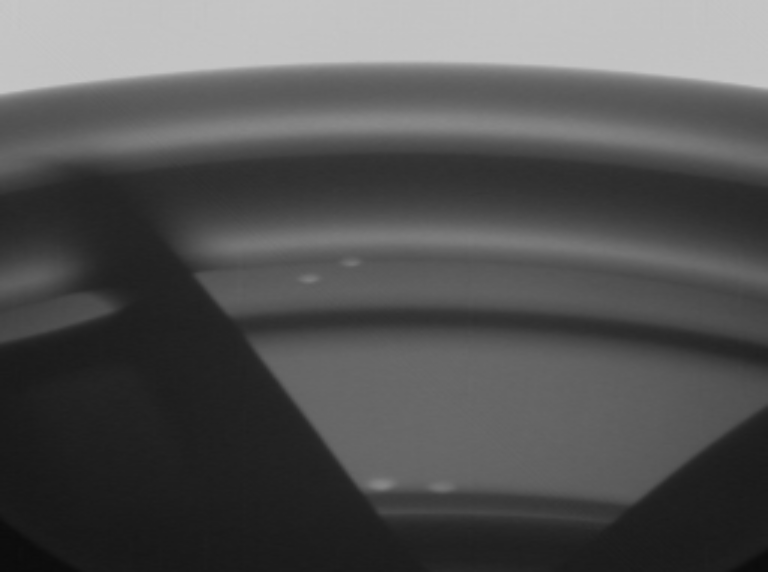defect: (414, 476, 471, 507)
